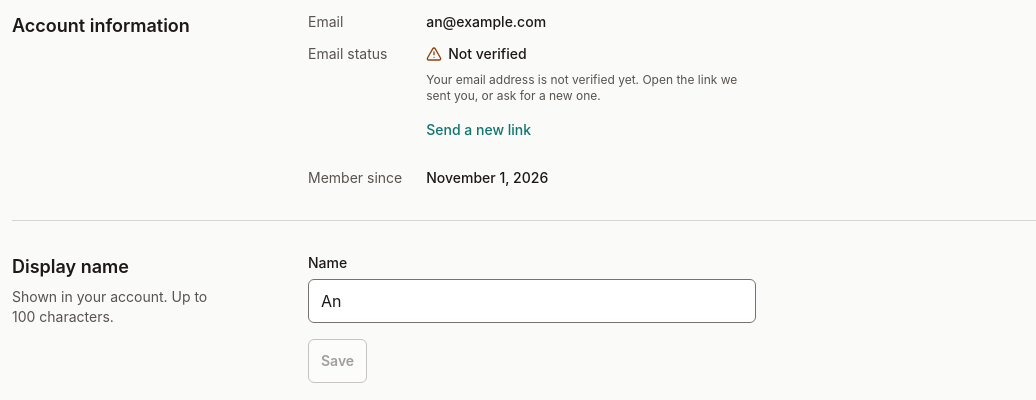
Profile verification › sends a new link from the status line in one click
Expected: the text "Not verified" is shown, 426,45 -> 527,62
Click the button "Send a new link". click: (479, 130)
box: 426,108 -> 531,152
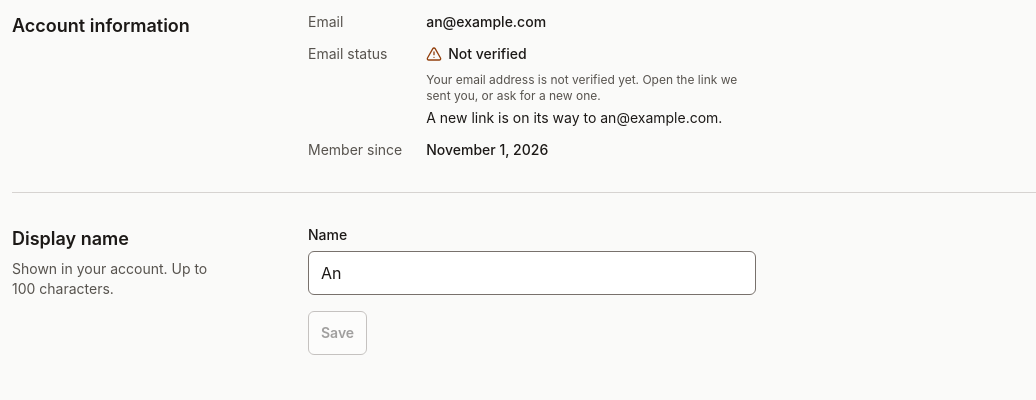
Expected: the text "A new link is on its way to an@example.com." is shown, 426,108 -> 756,128
